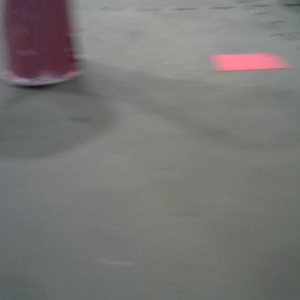middle: (1, 1, 84, 88)
